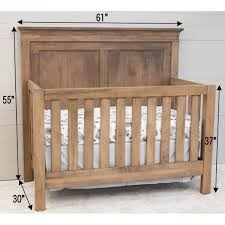crib: (17, 25, 216, 212)
